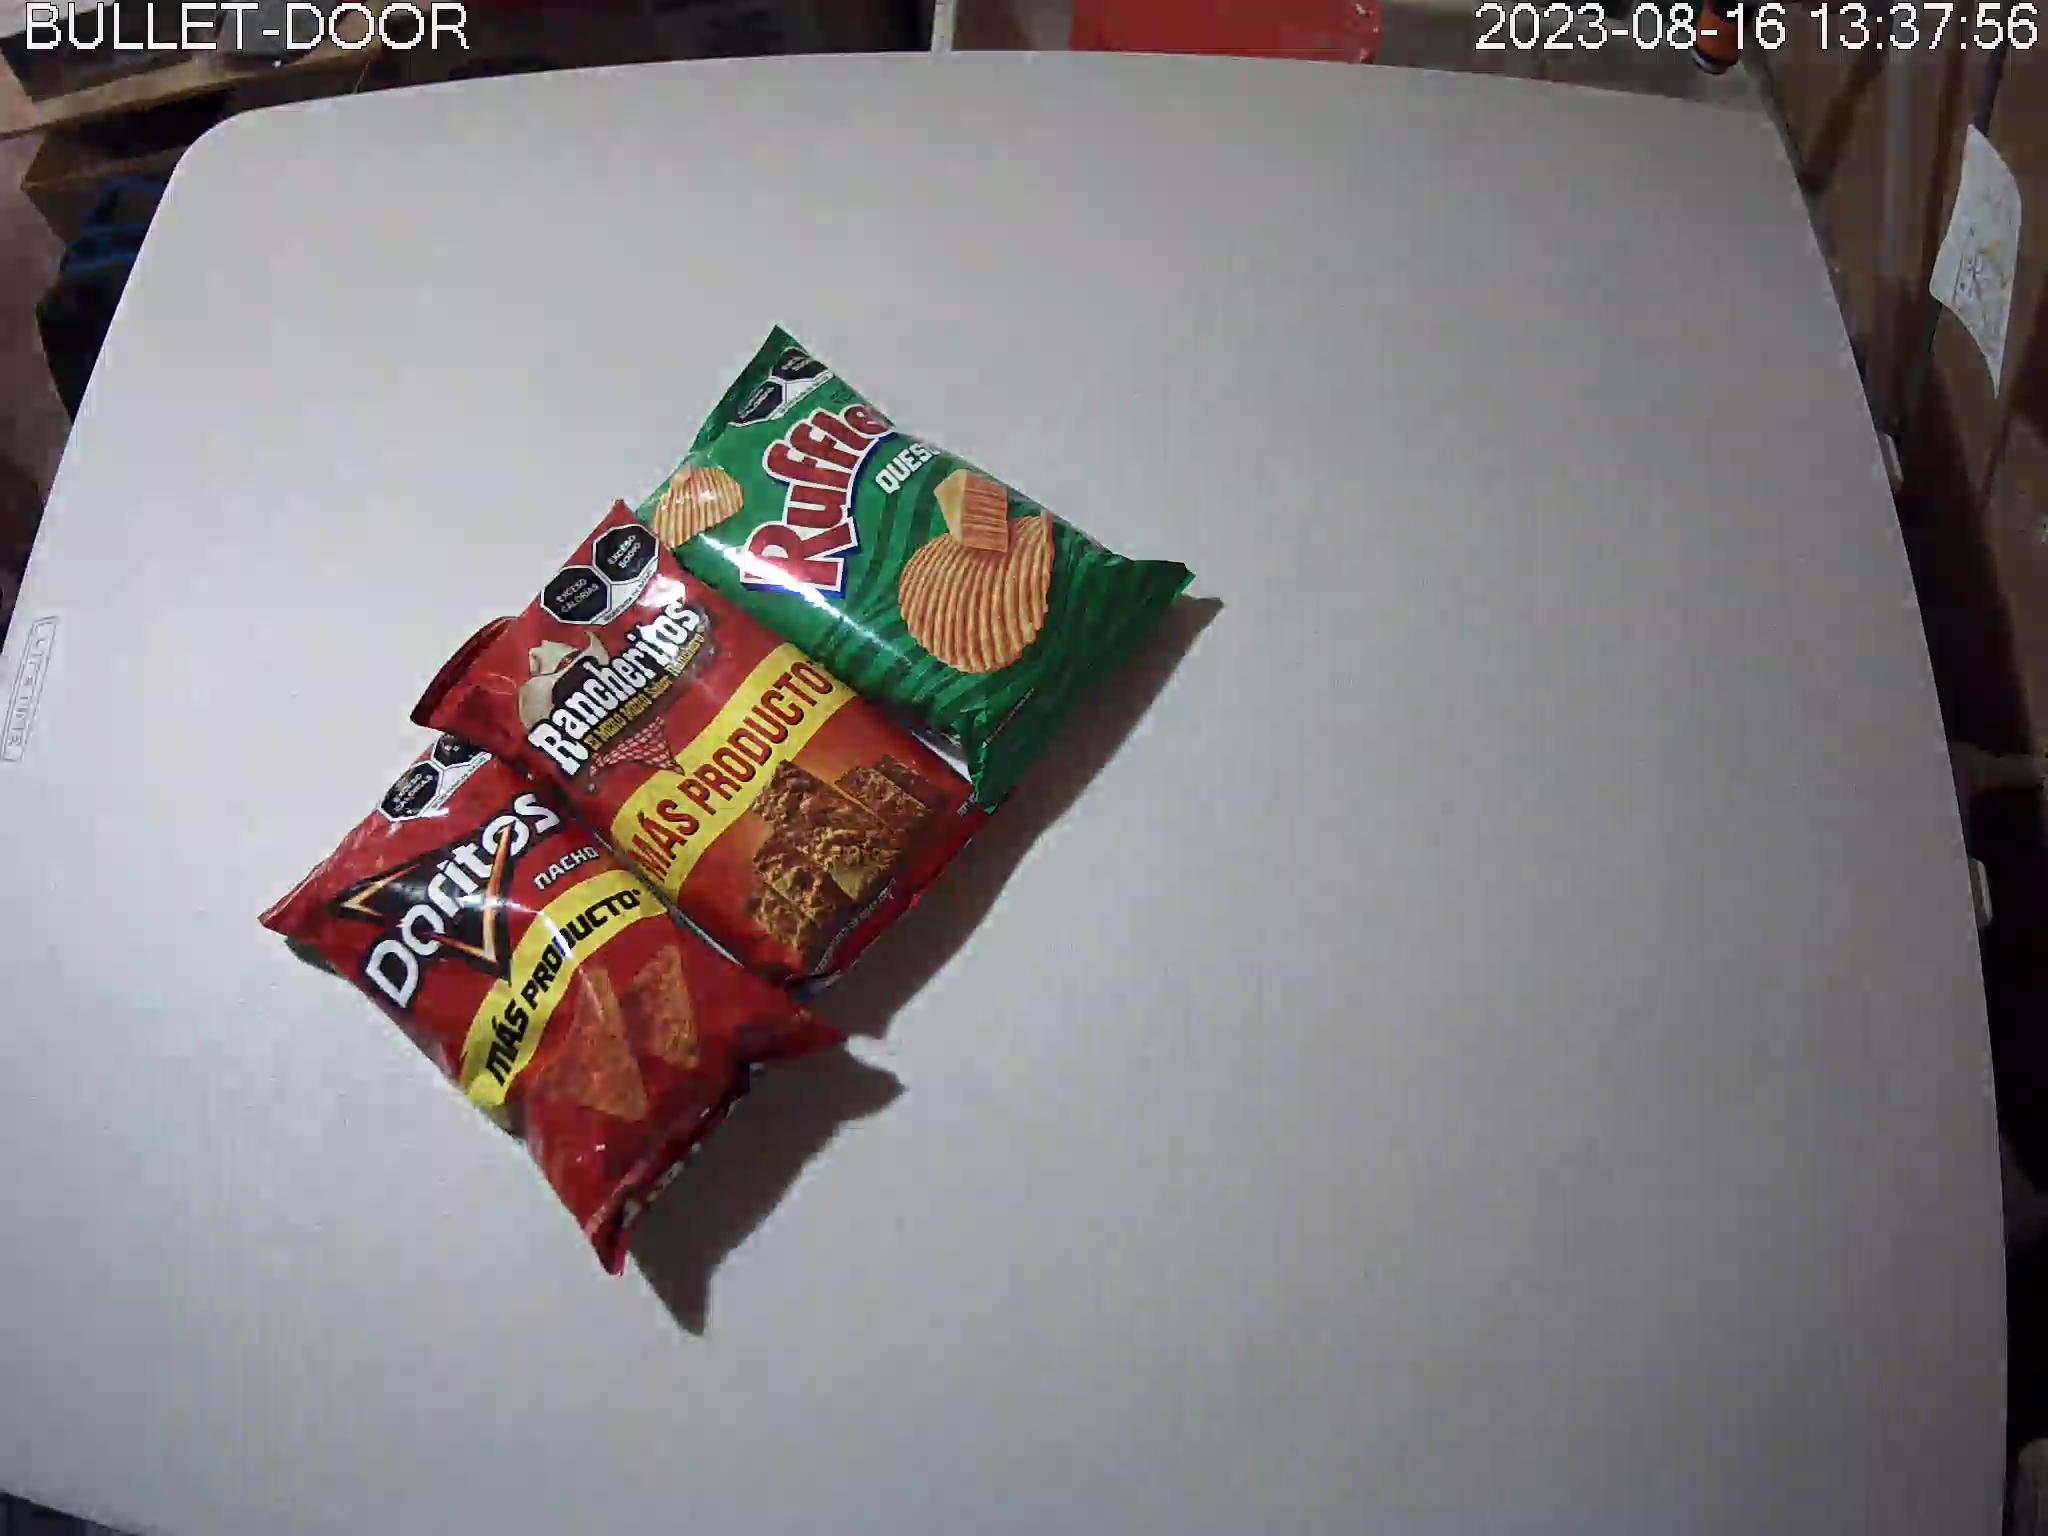DoritosN_61_F: (256, 710, 851, 1273)
Rancheritos_58_F: (411, 500, 1022, 1007)
RufflesQ_48_F: (632, 319, 1198, 812)
